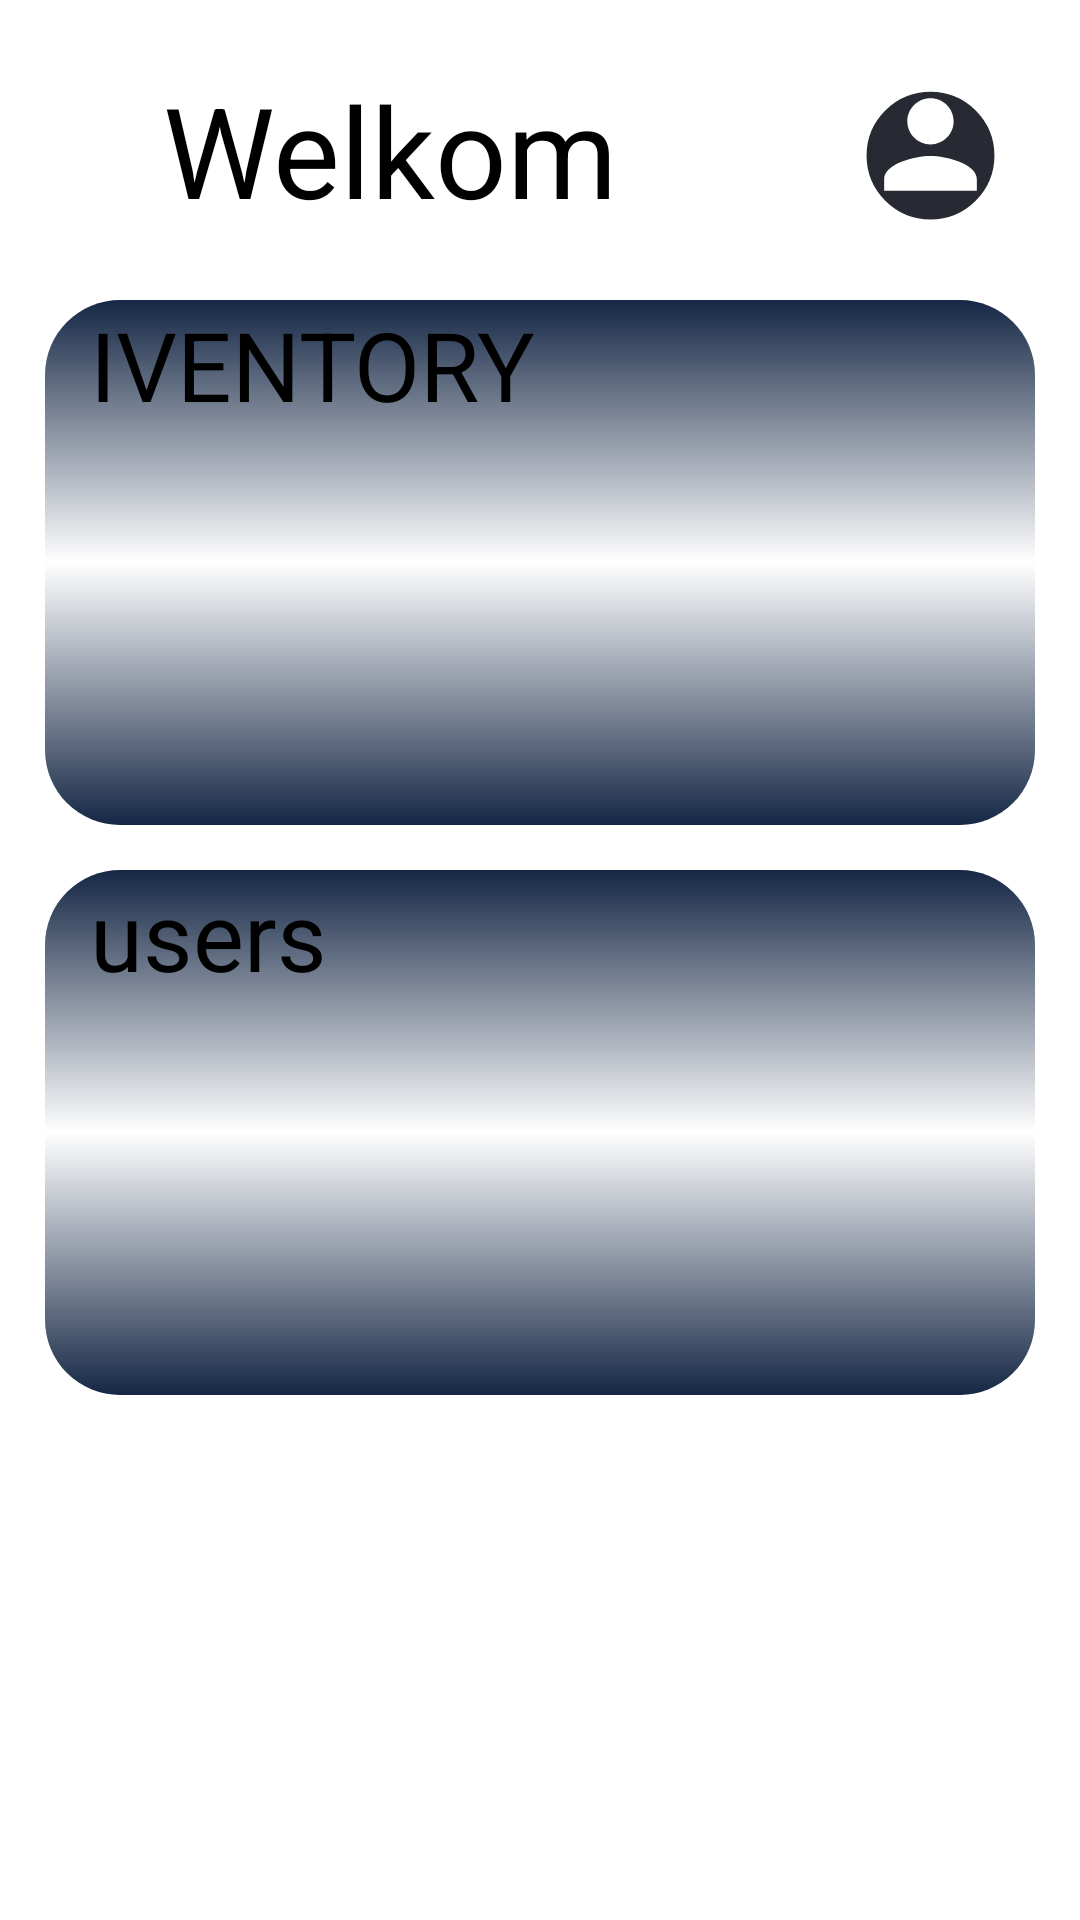

Point at icon controls on the screen. Image size 1080px x 1920px, points as [x,y].
account: [930,155]
